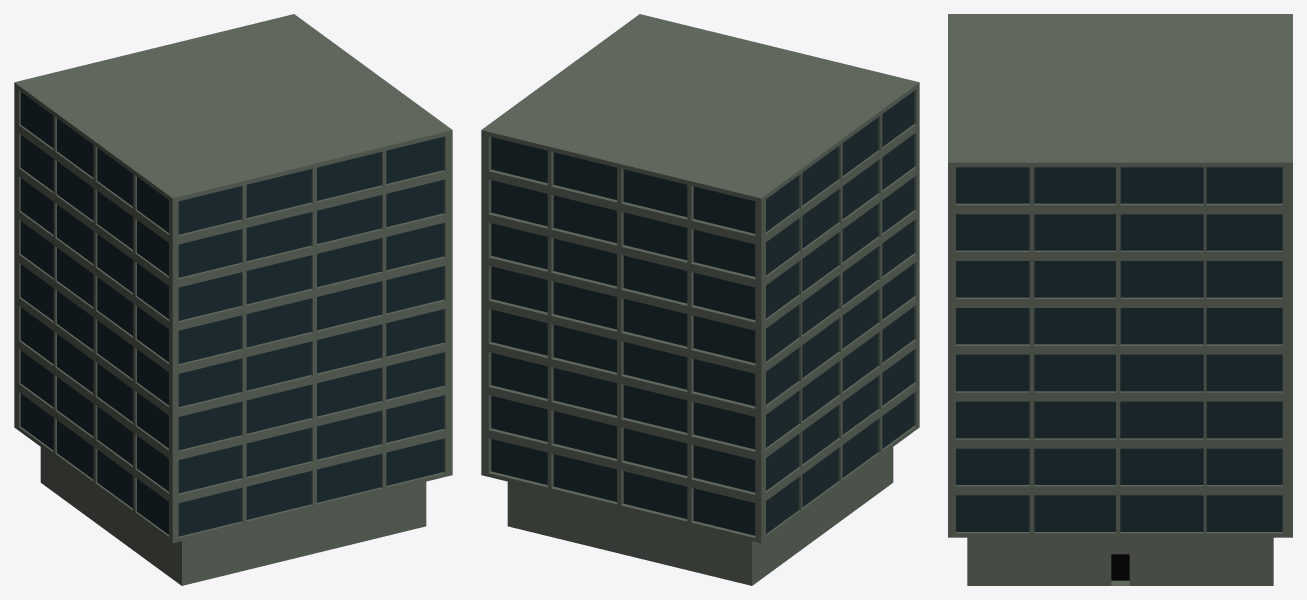
Rendered from Predio2.fbx.
The picture shows the model from 3 angles, left to right: view 1: azimuth 30°, elevation 25°; view 2: azimuth 150°, elevation 25°; view 3: azimuth 270°, elevation 25°; orthographic projection. The views are drawn at different scales.
Parts seen in each view (by area): view 1: Cube, Cube.001; view 2: Cube, Cube.001; view 3: Cube, Cube.001.
Part boxes in pixels (bbox=[...]): Cube: bbox=[14, 14, 452, 543]; Cube.001: bbox=[40, 447, 426, 585]; Cube: bbox=[481, 14, 919, 543]; Cube.001: bbox=[507, 447, 893, 585]; Cube: bbox=[948, 14, 1292, 537]; Cube.001: bbox=[967, 537, 1273, 585].
Bounding box in the file's own units: 229 × 312 × 225.
